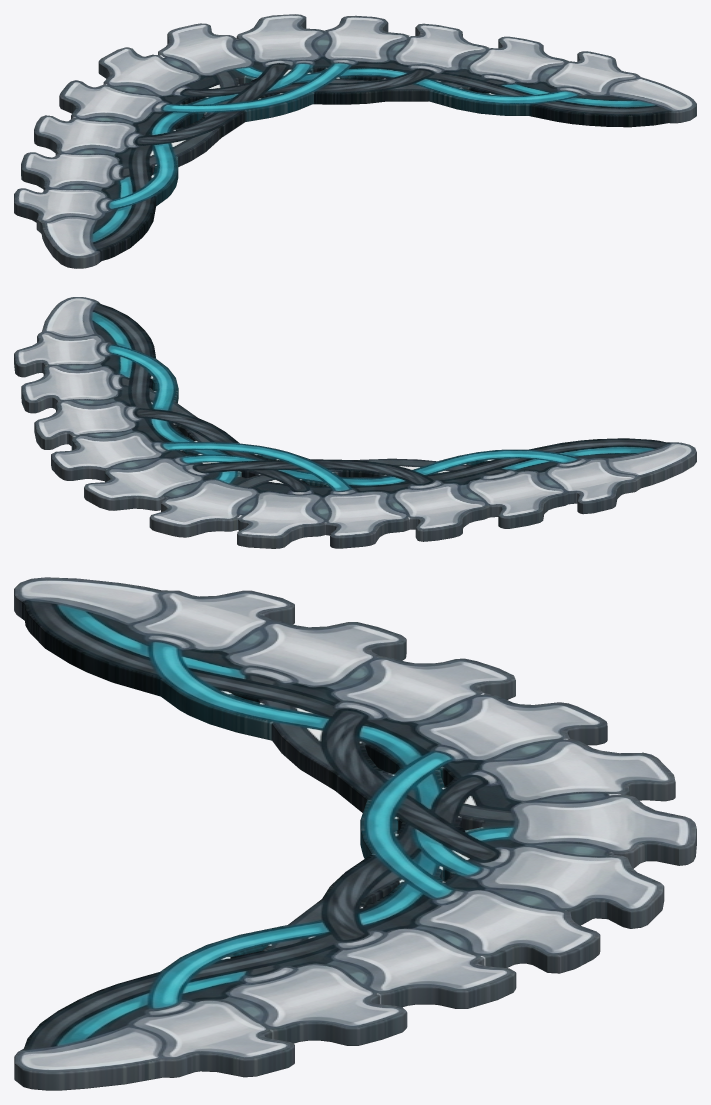
The model's file is Boomerang_60.fbx.
3 views of the same model, one above another, from view 1: azimuth 30°, elevation 25°; view 2: azimuth 150°, elevation 25°; view 3: azimuth 270°, elevation 25° (orthographic). The views are drawn at different scales.
Visible parts, largest first — view 1: Boomerang_60; view 2: Boomerang_60; view 3: Boomerang_60.
Part boxes in pixels (<box>): Boomerang_60: <box>14,14,696,268</box>; Boomerang_60: <box>14,297,696,548</box>; Boomerang_60: <box>14,577,696,1090</box>.
Bounding box in the file's own units: 201 × 3.4 × 117.
1 material, 1 textured.
